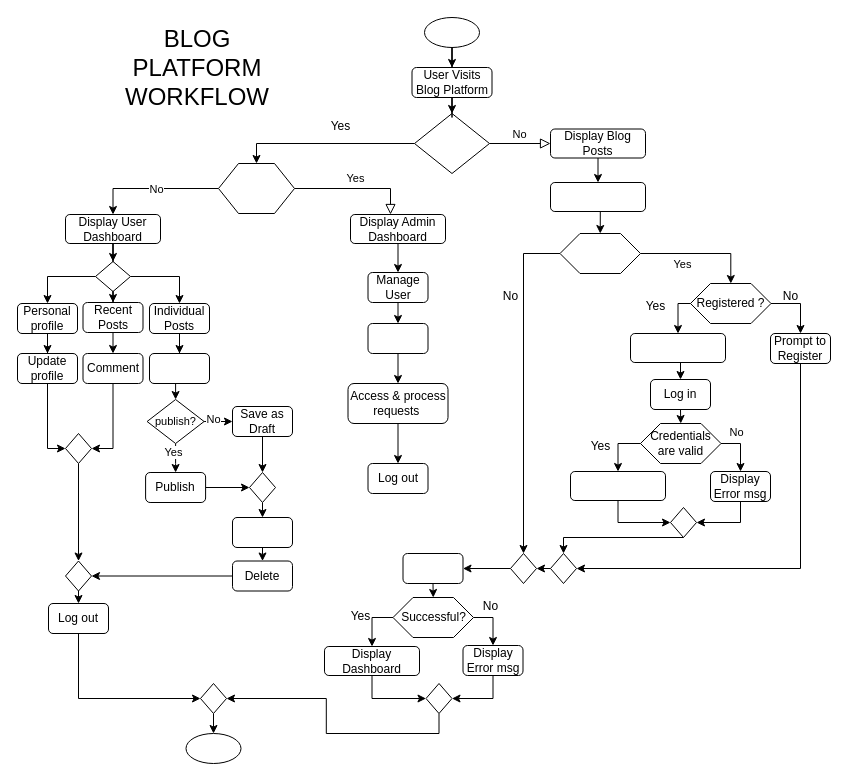
Image size: 848x781. Some labels were removed from this diagram. The shapes that lost their labels are listed below. From the top down, each one's centre as x and y in pixels, then its label:
[452,32]: START
[452,143]: Logged in
[256,188]: Is User Admin?
[598,197]: User Read
[599,253]: Comment ? New Post ?
[397,338]: Manage Blog post
[678,347]: Prompt user to login
[179,368]: Create new post
[618,485]: Comment or Create New Post
[262,532]: Edit
[432,568]: Register
[213,748]: END
